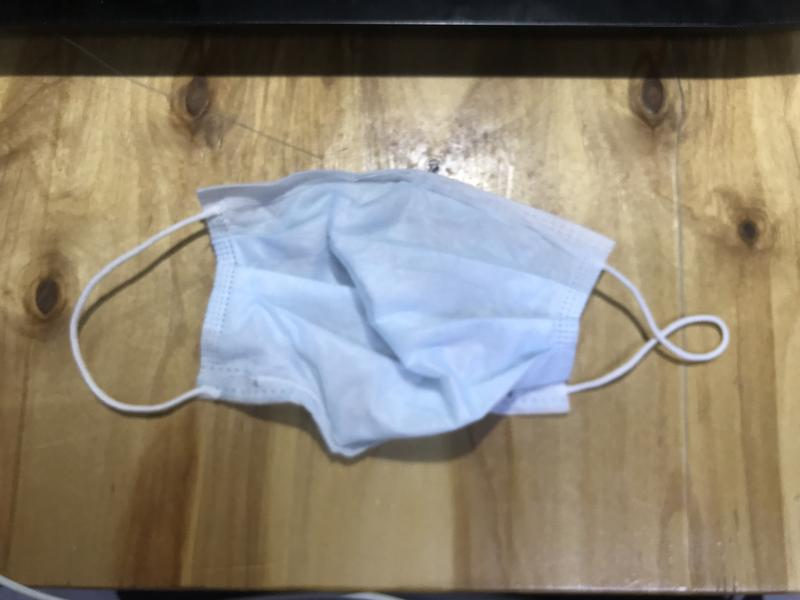medical_mask: (71, 170, 728, 459)
